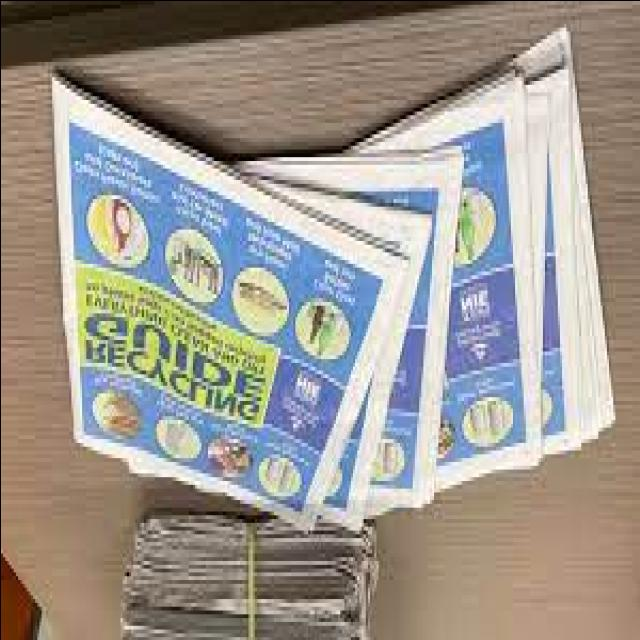newspaper: (65, 116, 451, 518), (402, 29, 614, 514), (117, 517, 376, 637)
